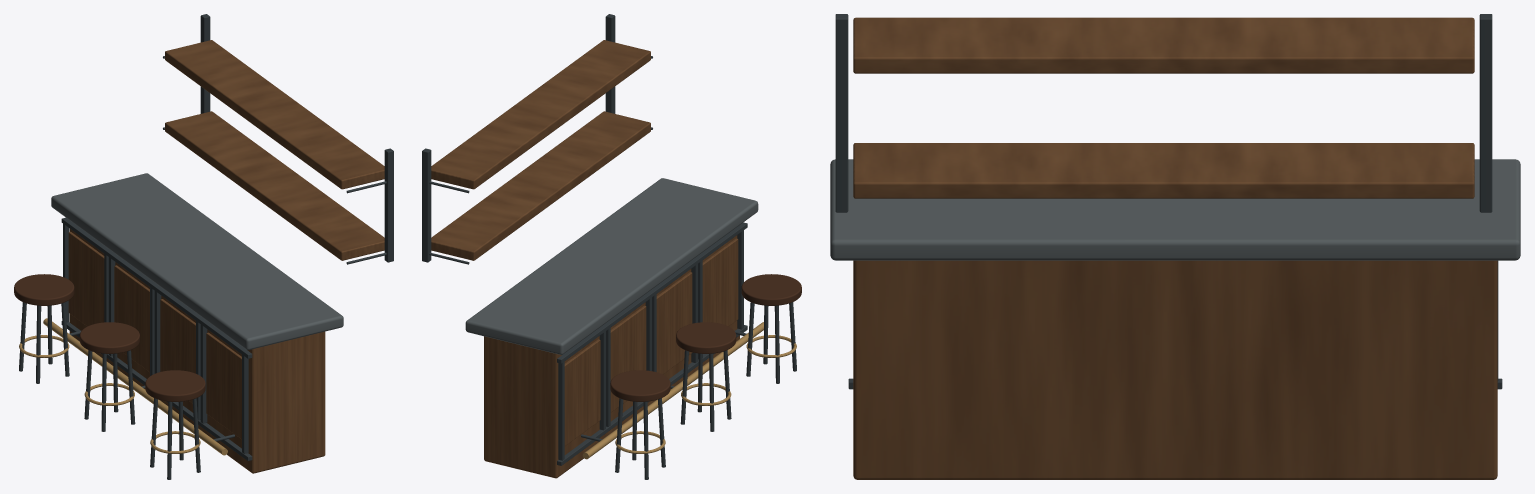
The model's file is rooftop-bar.glb.
The picture shows the model from 3 angles, left to right: view 1: azimuth 30°, elevation 25°; view 2: azimuth 150°, elevation 25°; view 3: azimuth 270°, elevation 25°; orthographic projection. The views are drawn at different scales.
Parts seen in each view (by area): view 1: TerraceBar_walnut, TerraceBar_stone, TerraceBar_steel, TerraceBar_leather, TerraceBar_brass; view 2: TerraceBar_walnut, TerraceBar_stone, TerraceBar_steel, TerraceBar_leather, TerraceBar_brass; view 3: TerraceBar_walnut, TerraceBar_stone, TerraceBar_steel.
Part boxes in pixels (x1=…): TerraceBar_walnut: x1=68, y1=40, x2=384, y2=473; TerraceBar_stone: x1=51, y1=173, x2=343, y2=349; TerraceBar_steel: x1=19, y1=14, x2=393, y2=479; TerraceBar_leather: x1=14, y1=274, x2=205, y2=401; TerraceBar_brass: x1=19, y1=318, x2=227, y2=455; TerraceBar_walnut: x1=431, y1=40, x2=739, y2=478; TerraceBar_stone: x1=465, y1=178, x2=758, y2=354; TerraceBar_steel: x1=422, y1=14, x2=796, y2=479; TerraceBar_leather: x1=610, y1=274, x2=801, y2=401; TerraceBar_brass: x1=582, y1=322, x2=796, y2=459; TerraceBar_walnut: x1=853, y1=17, x2=1497, y2=479; TerraceBar_stone: x1=830, y1=159, x2=1520, y2=260; TerraceBar_steel: x1=835, y1=14, x2=1502, y2=389.
Size of the model in its own units: 1.91 by 2.48 by 3.
5 materials, 1 textured.
